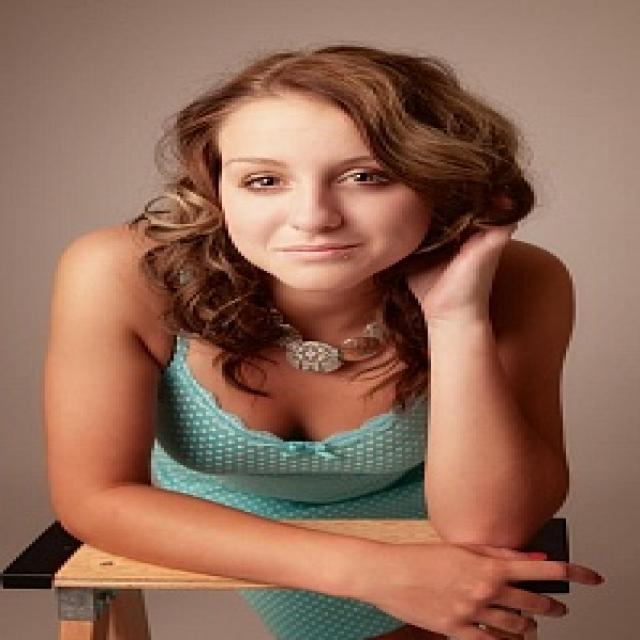Eyes: (232, 161, 412, 196)
